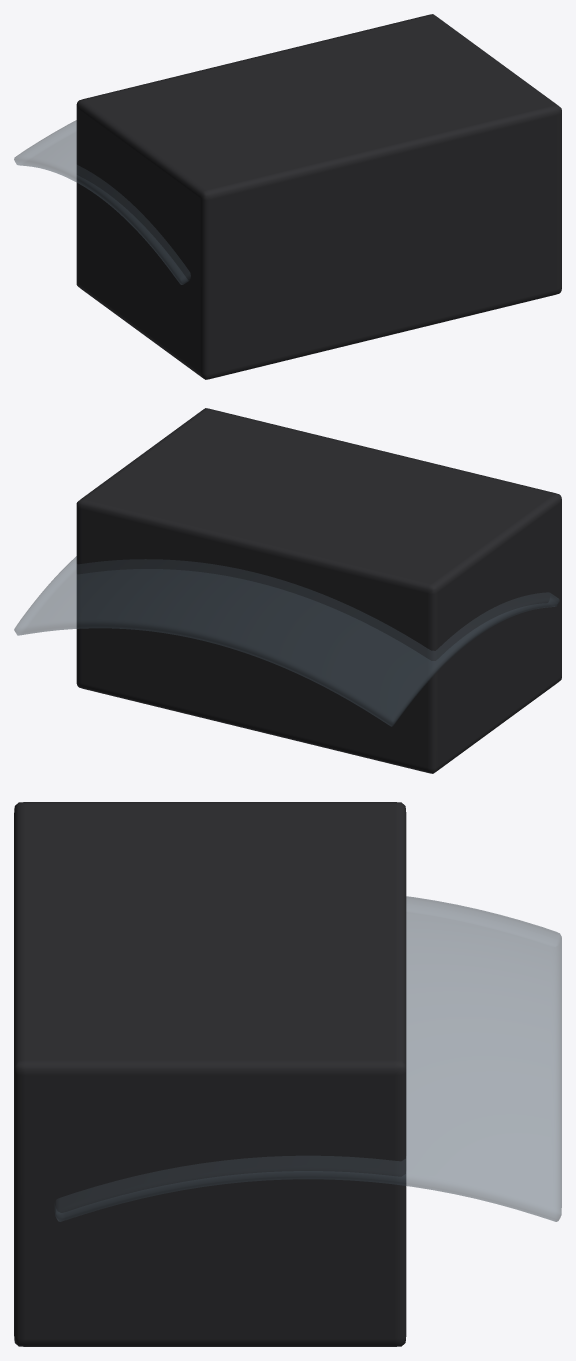
File: headlamp_left.glb
3 views of the same model, one above another, from view 1: azimuth 30°, elevation 25°; view 2: azimuth 150°, elevation 25°; view 3: azimuth 270°, elevation 25° (orthographic). The views are drawn at different scales.
Parts seen in each view (by area): view 1: HEADLAMP_BUCKET_LEFT, HEADLAMP_LENS_LEFT; view 2: HEADLAMP_BUCKET_LEFT, HEADLAMP_LENS_LEFT; view 3: HEADLAMP_BUCKET_LEFT, HEADLAMP_LENS_LEFT.
Part boxes in pixels (x1,y1,x2,y2): HEADLAMP_BUCKET_LEFT: [76, 14, 561, 379]; HEADLAMP_LENS_LEFT: [14, 120, 190, 284]; HEADLAMP_BUCKET_LEFT: [76, 408, 561, 773]; HEADLAMP_LENS_LEFT: [14, 556, 559, 726]; HEADLAMP_BUCKET_LEFT: [14, 802, 406, 1346]; HEADLAMP_LENS_LEFT: [54, 896, 561, 1221].
Size of the model in its own units: 0.3386 by 0.16 by 0.2793.
